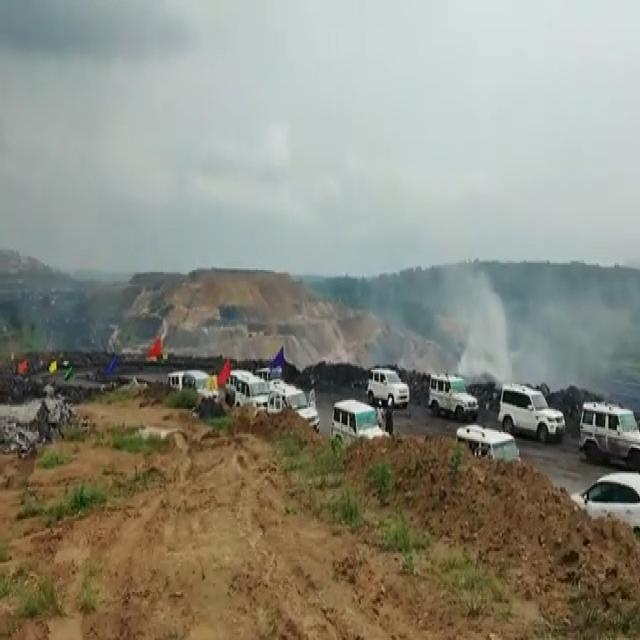light_vehicle: (499, 373, 567, 439), (582, 395, 640, 460), (424, 367, 478, 418), (328, 396, 368, 442), (280, 386, 320, 432), (592, 468, 640, 506), (461, 421, 509, 453), (370, 369, 404, 401), (238, 376, 265, 405)
